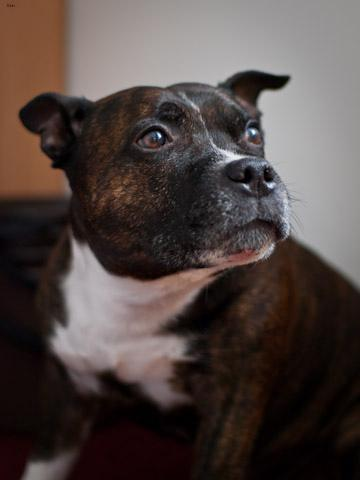dog-staffordshire_bull_terrier: (18, 69, 289, 279)
